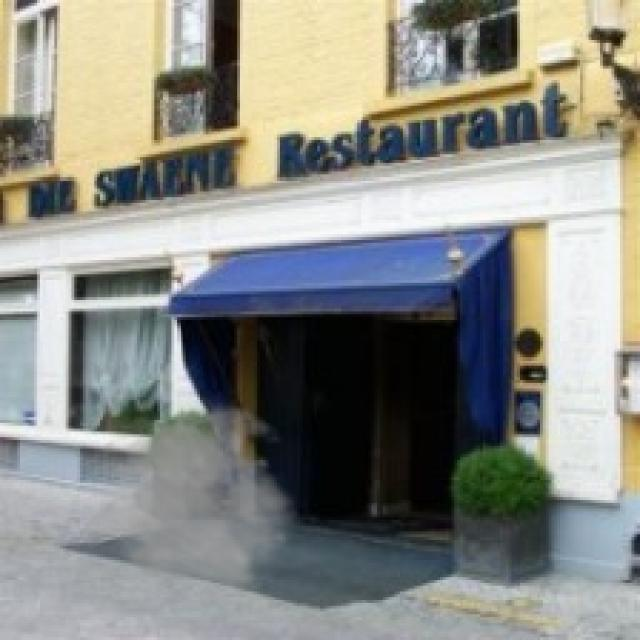smoke: (80, 389, 303, 600)
